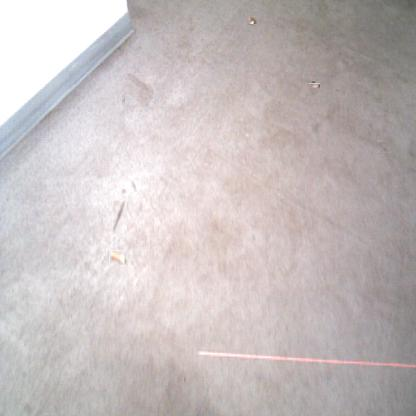dirty: (109, 250, 126, 265), (247, 15, 257, 25), (310, 82, 319, 92)
mark: (123, 74, 155, 106), (311, 104, 335, 130), (112, 200, 127, 237), (376, 141, 390, 154), (130, 180, 137, 192), (120, 190, 127, 198)
